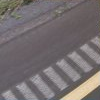crosswalk: (2, 35, 99, 100)
